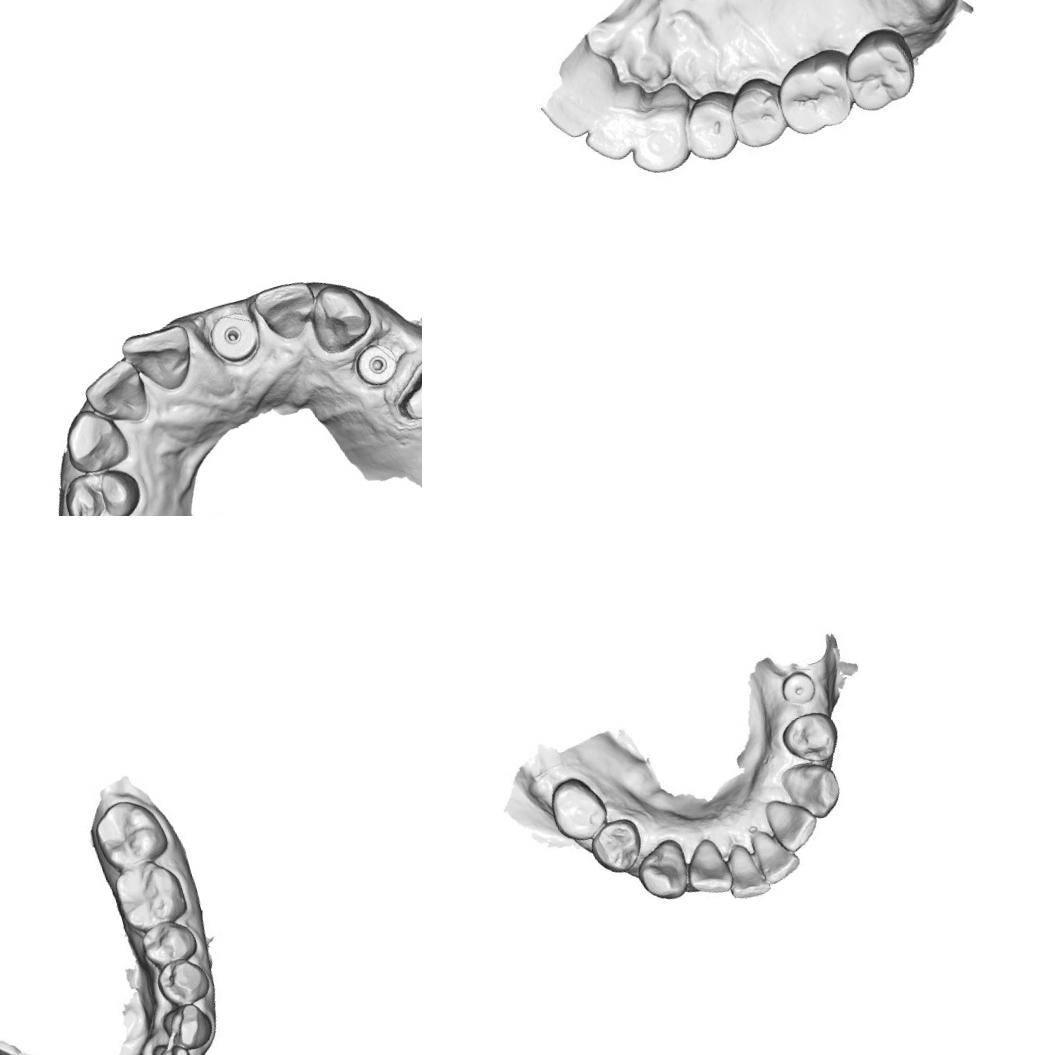canine: (620, 88, 699, 182), (56, 398, 134, 480), (304, 276, 378, 358), (781, 754, 846, 824), (630, 834, 691, 904), (155, 996, 215, 1055)
crown: (382, 350, 422, 428)
implant: (204, 304, 266, 370), (352, 340, 403, 392), (775, 664, 822, 712)
incisor: (530, 50, 623, 150), (116, 318, 202, 402), (76, 354, 154, 435), (575, 89, 649, 167), (248, 273, 324, 346), (761, 791, 821, 857), (748, 819, 806, 887), (716, 838, 773, 904), (679, 834, 732, 900), (150, 1042, 192, 1055)
molar: (834, 24, 921, 120), (770, 50, 860, 140), (92, 796, 166, 869), (112, 858, 188, 928)
premolar: (543, 770, 610, 846), (58, 460, 146, 516), (727, 76, 788, 150), (774, 706, 842, 770), (681, 89, 740, 162), (585, 813, 646, 878), (140, 915, 200, 971), (158, 952, 215, 1007)
